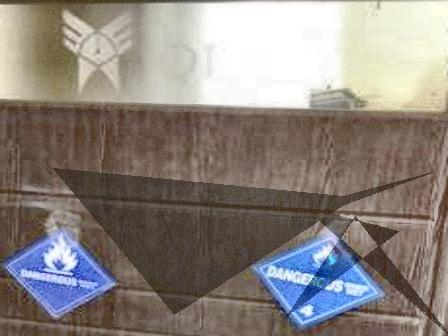dangerous-when-wet: (250, 234, 389, 333), (1, 228, 121, 324)
